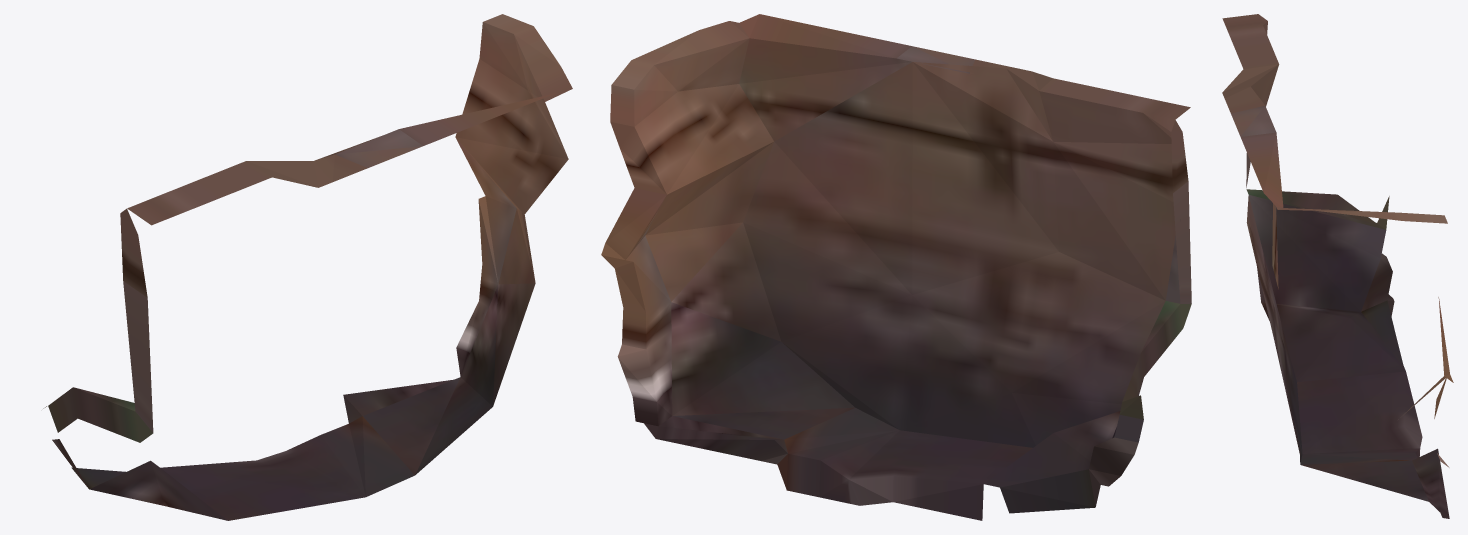
3 views of the same model, side by side, from view 1: azimuth 30°, elevation 25°; view 2: azimuth 150°, elevation 25°; view 3: azimuth 270°, elevation 25° (orthographic). The views are drawn at different scales.
Visible parts, largest first — view 1: Mesh_0; view 2: Mesh_0; view 3: Mesh_0.
Part boxes in pixels (<box>): Mesh_0: <box>43,14,572,520</box>; Mesh_0: <box>601,14,1191,520</box>; Mesh_0: <box>1222,14,1453,518</box>.
Size of the model in its own units: 10.48 by 7.7 by 4.55.
1 material, 1 textured.
